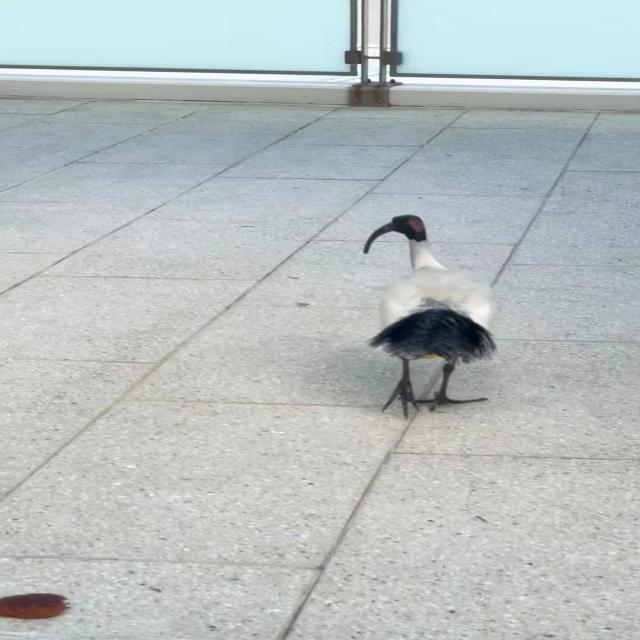Birds-Ibis: (358, 209, 503, 424)
